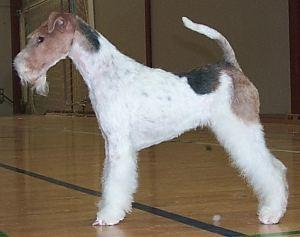wire-haired_fox_terrier: (10, 11, 289, 224)
